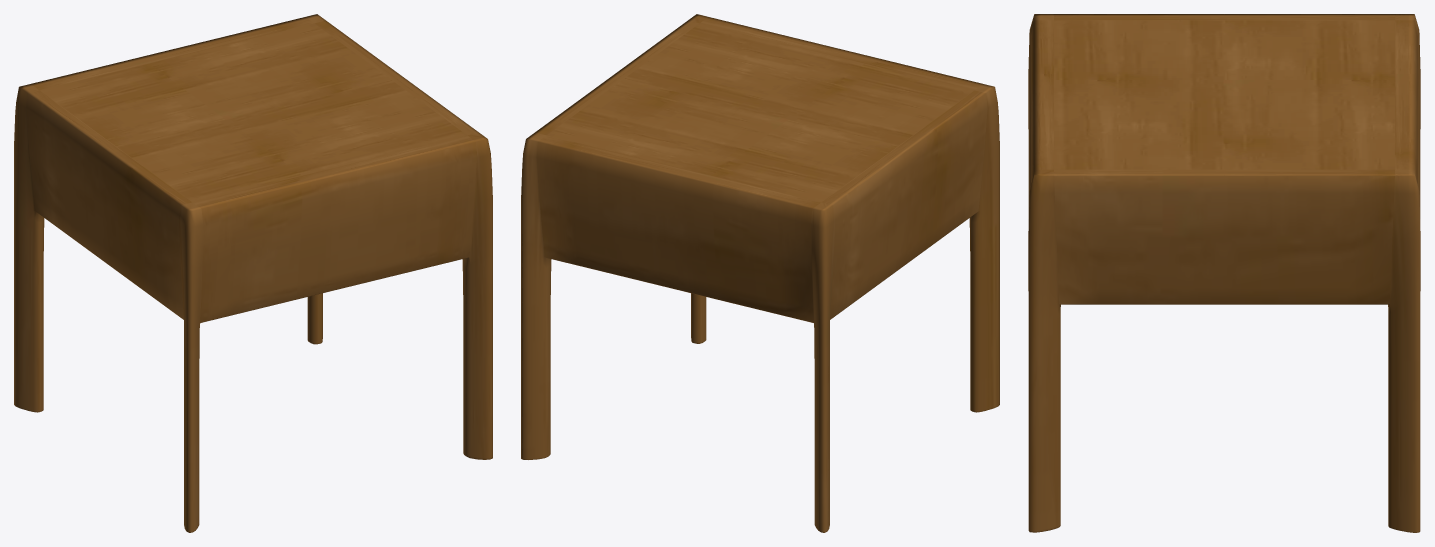
Rendered from sh-scopia-ext-table.glb.
3 renders of one model, left to right at view 1: azimuth 30°, elevation 25°; view 2: azimuth 150°, elevation 25°; view 3: azimuth 270°, elevation 25°, orthographic. The views are drawn at different scales.
Visible parts, largest first — view 1: mesita_ext2_Cube.012; view 2: mesita_ext2_Cube.012; view 3: mesita_ext2_Cube.012.
Boxes of the visible parts, x1=… form: mesita_ext2_Cube.012: x1=14, y1=14, x2=492, y2=532; mesita_ext2_Cube.012: x1=521, y1=14, x2=999, y2=532; mesita_ext2_Cube.012: x1=1028, y1=14, x2=1420, y2=532.
Size of the model in its own units: 1 by 1 by 1.
1 material, 1 textured.
